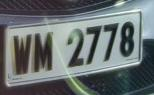2: (64, 26, 86, 71)
7: (102, 20, 121, 65), (84, 24, 103, 67)
8: (118, 19, 136, 60)
M: (31, 29, 56, 78)
W: (10, 28, 33, 79)
